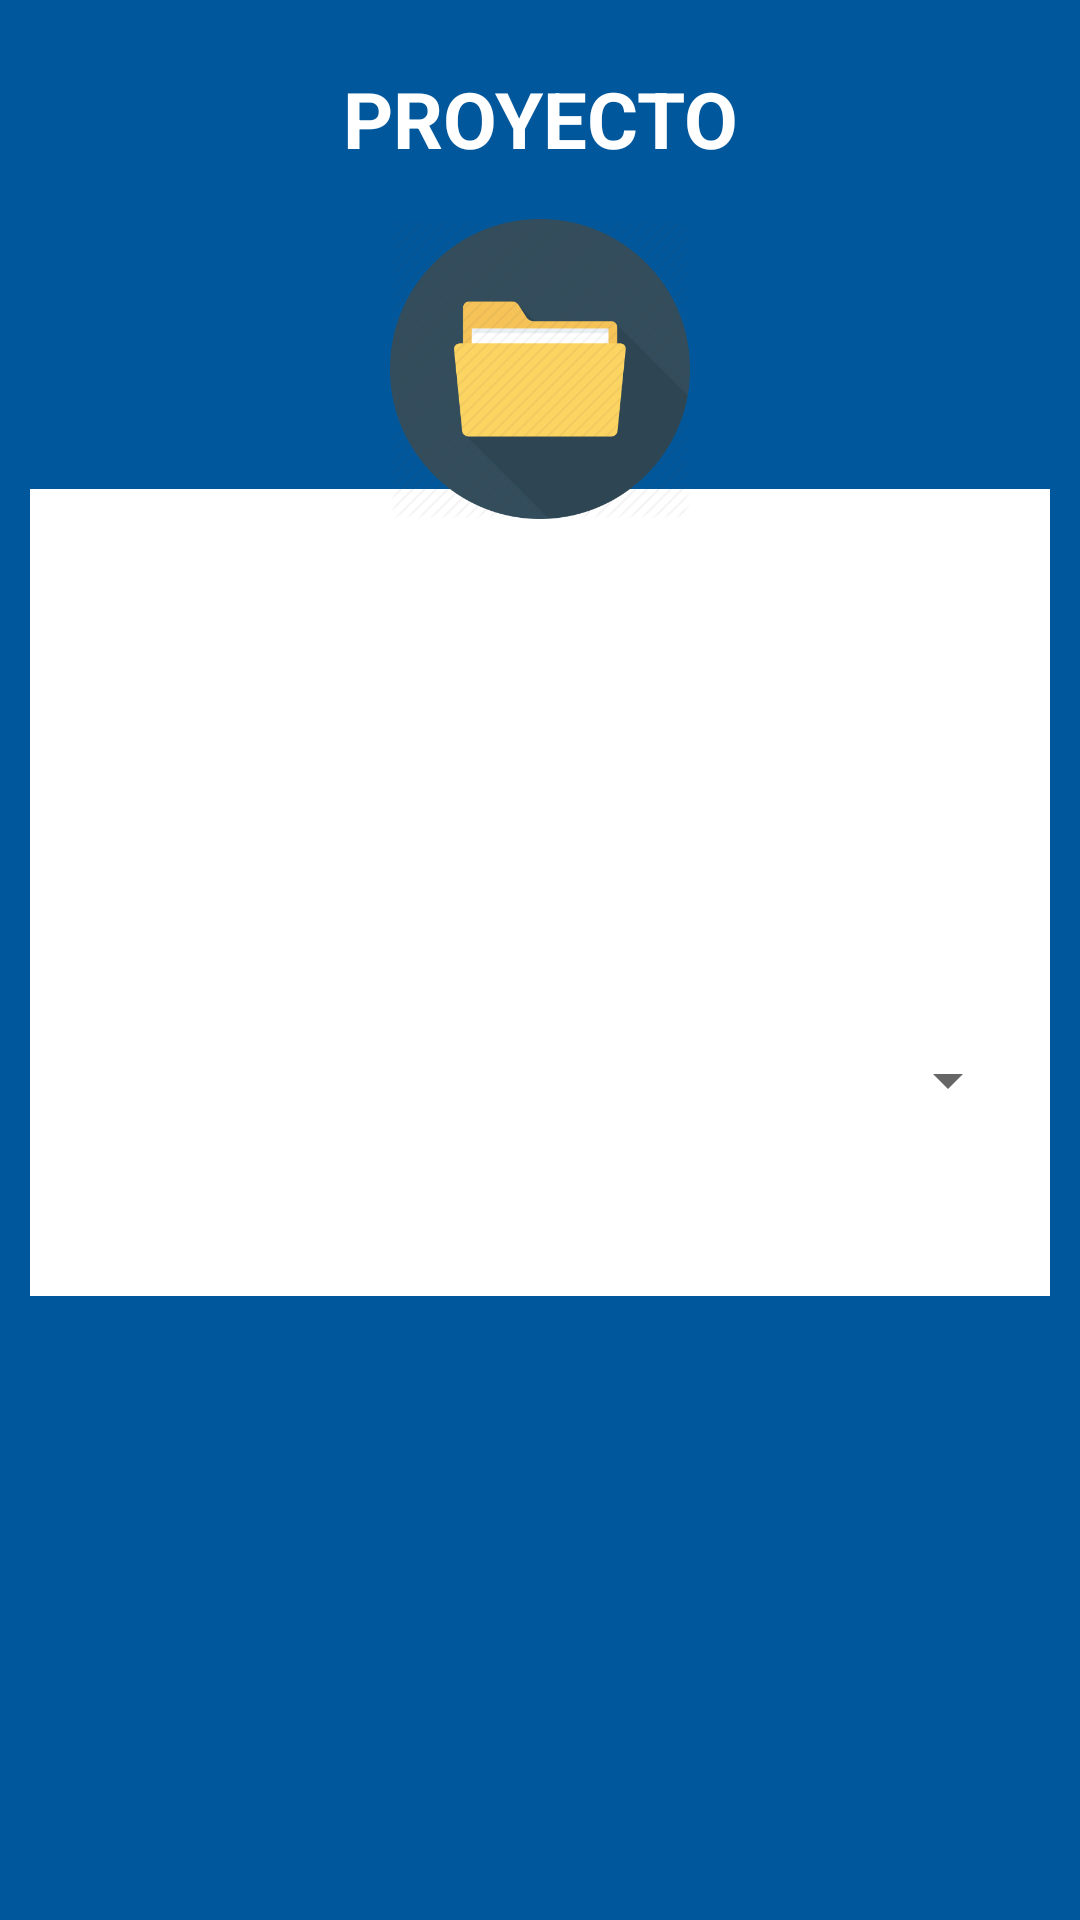

Locate icon controls on the screen. Image size 1080 × 1920, boxes as (x1=x1, y1=y1, x2=x2, y2=y2).
proy mostrar: (x1=390, y1=219, x2=690, y2=519)
